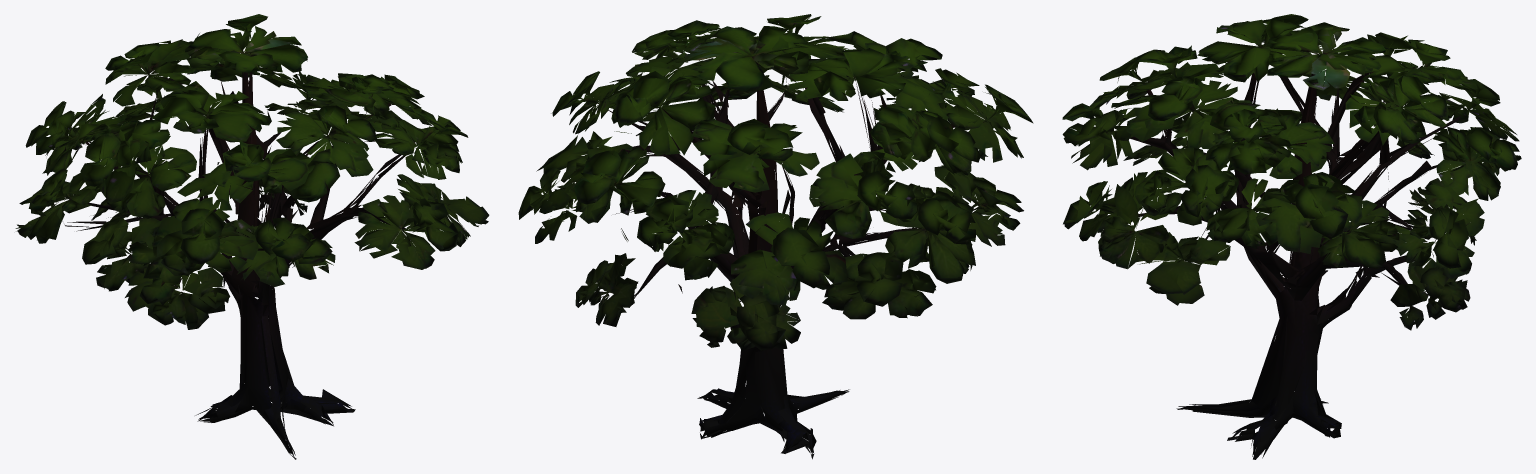
The model's file is vegetation.rain-tree-01.lod1.glb.
The picture shows the model from 3 angles, left to right: view 1: azimuth 30°, elevation 25°; view 2: azimuth 150°, elevation 25°; view 3: azimuth 270°, elevation 25°; orthographic projection. The views are drawn at different scales.
Parts seen in each view (by area): view 1: vegetation.rain-tree-01_LOD1_00; view 2: vegetation.rain-tree-01_LOD1_00; view 3: vegetation.rain-tree-01_LOD1_00.
Boxes of the visible parts, x1,y1,x2,y2 form: vegetation.rain-tree-01_LOD1_00: [15, 14, 489, 459]; vegetation.rain-tree-01_LOD1_00: [518, 14, 1033, 459]; vegetation.rain-tree-01_LOD1_00: [1062, 14, 1521, 459].
Size of the model in its own units: 8.92 by 8.08 by 8.84.
1 material, 1 textured.
